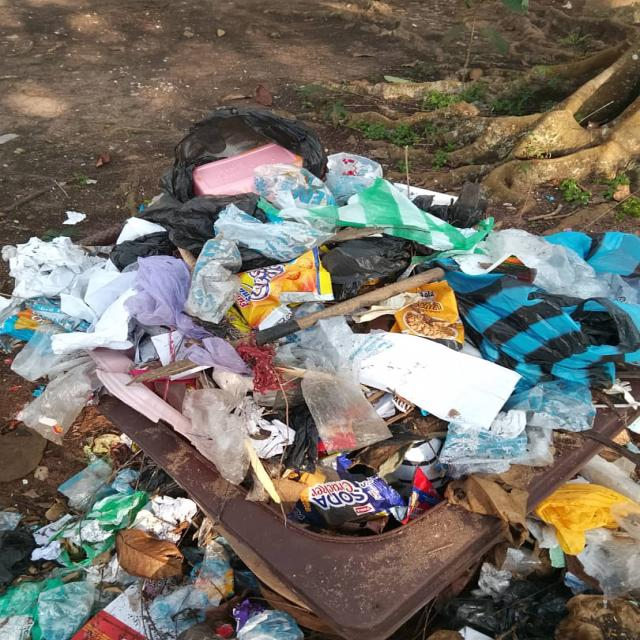overflowing: (71, 148, 626, 544)
